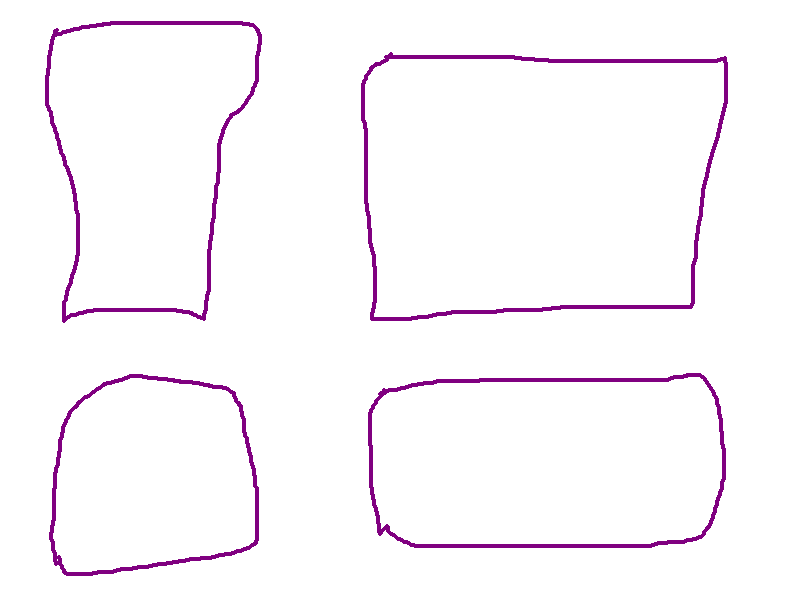rect: (358, 48, 733, 323), (365, 366, 732, 557), (41, 14, 264, 321), (43, 370, 265, 583)
